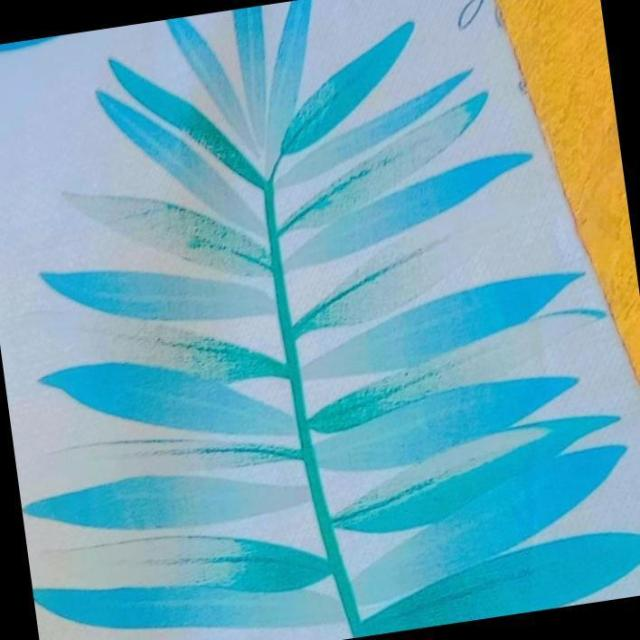color issues: (29, 475, 351, 640), (302, 307, 600, 445), (12, 272, 281, 416), (338, 412, 589, 553), (290, 201, 538, 343), (268, 98, 486, 250), (26, 399, 310, 511), (53, 160, 267, 282), (144, 42, 297, 165)
